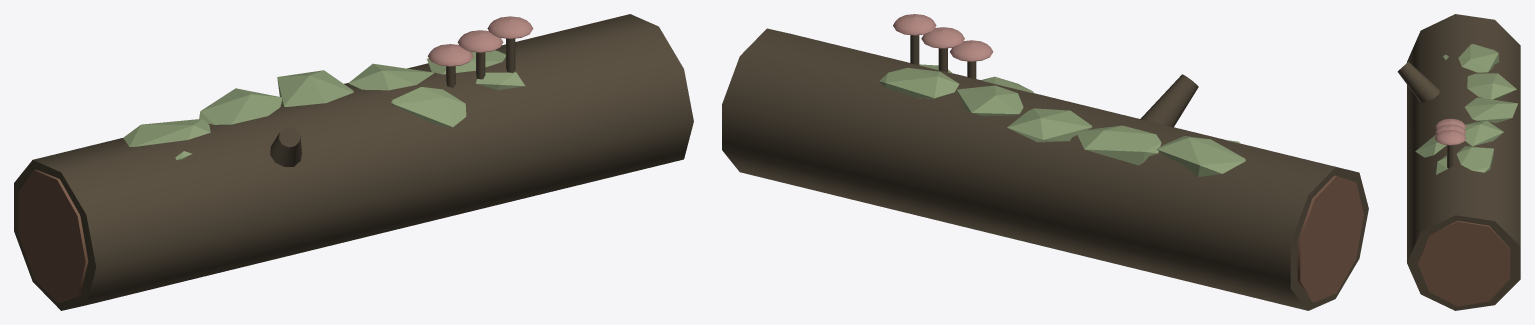
The model's file is fallen-log.glb.
3 renders of one model, left to right at view 1: azimuth 30°, elevation 25°; view 2: azimuth 150°, elevation 25°; view 3: azimuth 270°, elevation 25°, orthographic. The views are drawn at different scales.
Visible parts, largest first — view 1: Vesper / fallen-log; view 2: Vesper / fallen-log; view 3: Vesper / fallen-log.
Boxes of the visible parts, bbox=[...] form: Vesper / fallen-log: bbox=[14, 14, 693, 310]; Vesper / fallen-log: bbox=[722, 14, 1368, 310]; Vesper / fallen-log: bbox=[1397, 14, 1520, 310].
Bounding box in the file's own units: 4.84 × 1.42 × 1.24.
